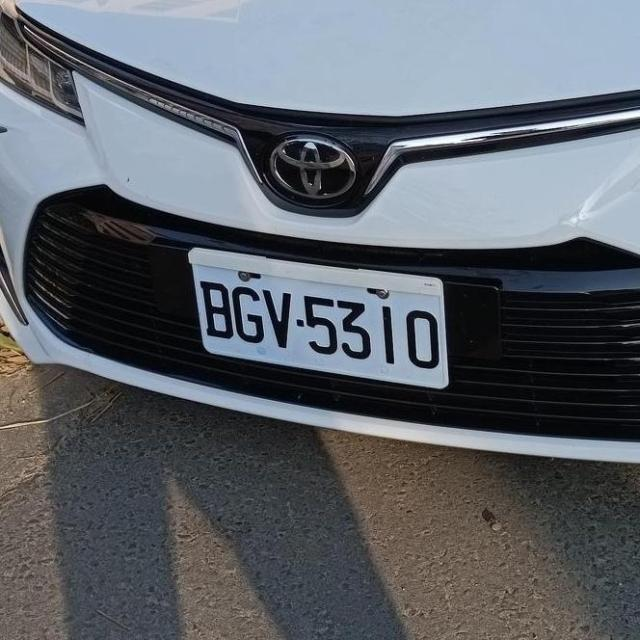W: (186, 248, 451, 388)
